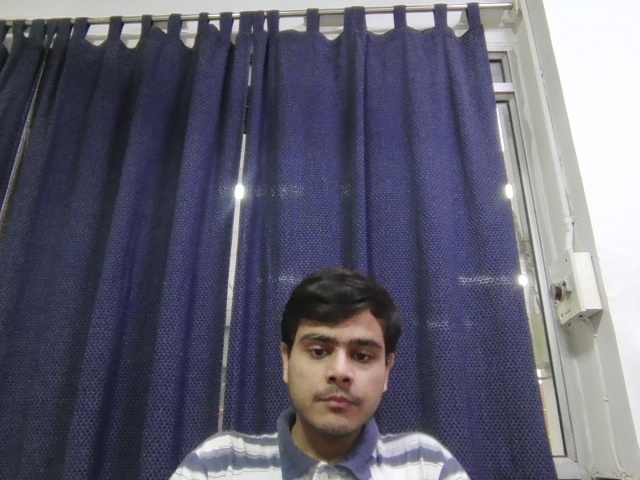face: (279, 276, 397, 435)
